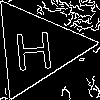H: (11, 22, 55, 71)
